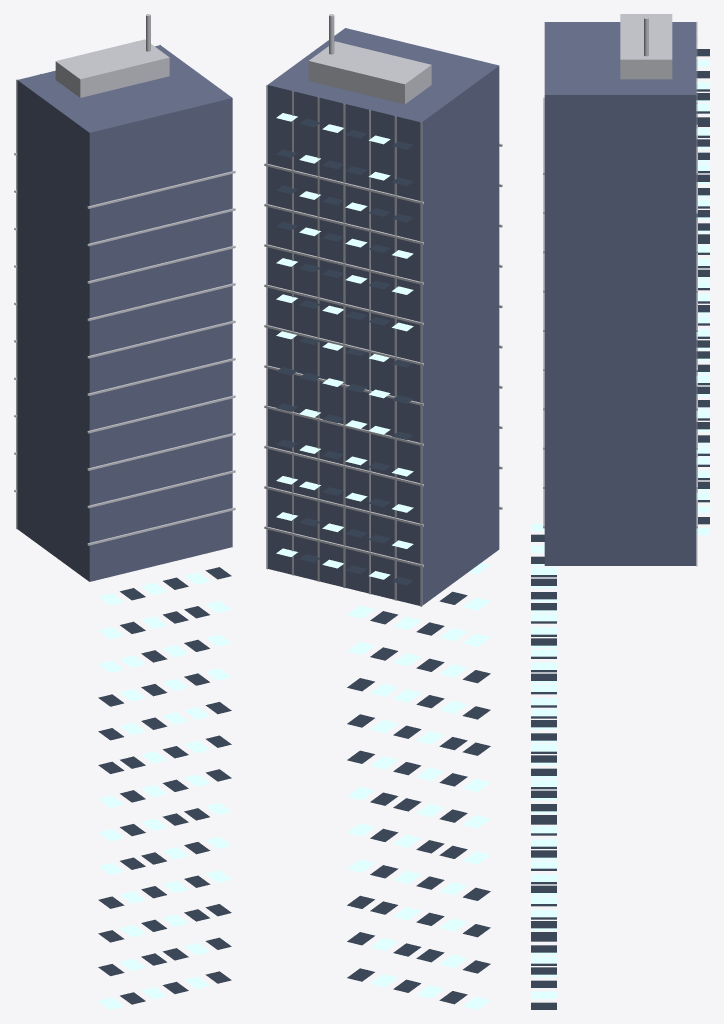
File: office_tower.glb
3 views of the same model, side by side, from view 1: azimuth 30°, elevation 25°; view 2: azimuth 150°, elevation 25°; view 3: azimuth 270°, elevation 25° (orthographic). The views are drawn at different scales.
Visible parts, largest first — view 1: body, roof_equip, vert_frame; view 2: body, roof_equip, vert_frame, vert_frame.003, vert_frame.004, vert_frame.001, vert_frame.006, vert_frame.002, vert_frame.005, floor_line.018, floor_line, floor_line.012 (+5 smaller); view 3: body, roof_equip, vert_frame.006.
Part boxes in pixels (left/top/right/bottom): body: left=17, top=45, right=232, bottom=581; roof_equip: left=55, top=39, right=169, bottom=97; vert_frame: left=16, top=79, right=17, bottom=528; body: left=268, top=28, right=499, bottom=605; roof_equip: left=308, top=41, right=431, bottom=104; vert_frame: left=420, top=122, right=422, bottom=606; vert_frame.003: left=343, top=103, right=345, bottom=587; vert_frame.004: left=317, top=97, right=319, bottom=581; vert_frame.001: left=394, top=116, right=396, bottom=600; vert_frame.006: left=266, top=85, right=267, bottom=569; vert_frame.002: left=369, top=110, right=370, bottom=594; vert_frame.005: left=292, top=91, right=293, bottom=575; floor_line.018: left=264, top=163, right=423, bottom=204; floor_line: left=264, top=526, right=423, bottom=567; floor_line.012: left=264, top=284, right=423, bottom=325; body: left=544, top=22, right=696, bottom=565; roof_equip: left=620, top=14, right=672, bottom=79; vert_frame.006: left=696, top=95, right=697, bottom=566.
Size of the model in its own units: 4.12 by 24.9 by 4.13.
